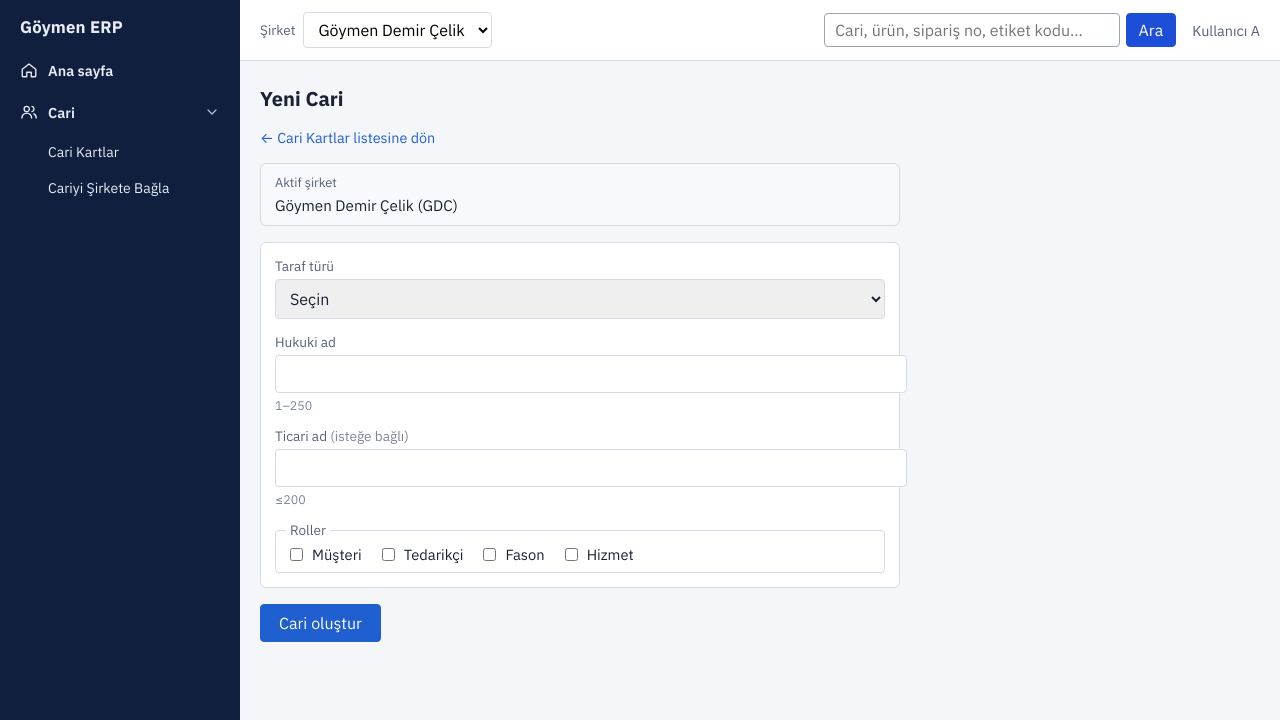
Test: C-02 success (G-002 checks 1, 10) › without the detail grant: the record is summarised with the server code, no detail read, and can be reset
The width and height of the screenshot is (1280, 720).
Expected: the heading "Yeni Cari" is shown, [260,85,344,112]
Select "Tüzel kişi" in the dropdown labelled "Taraf türü" at x=580, y=299, box [275,279,885,319]
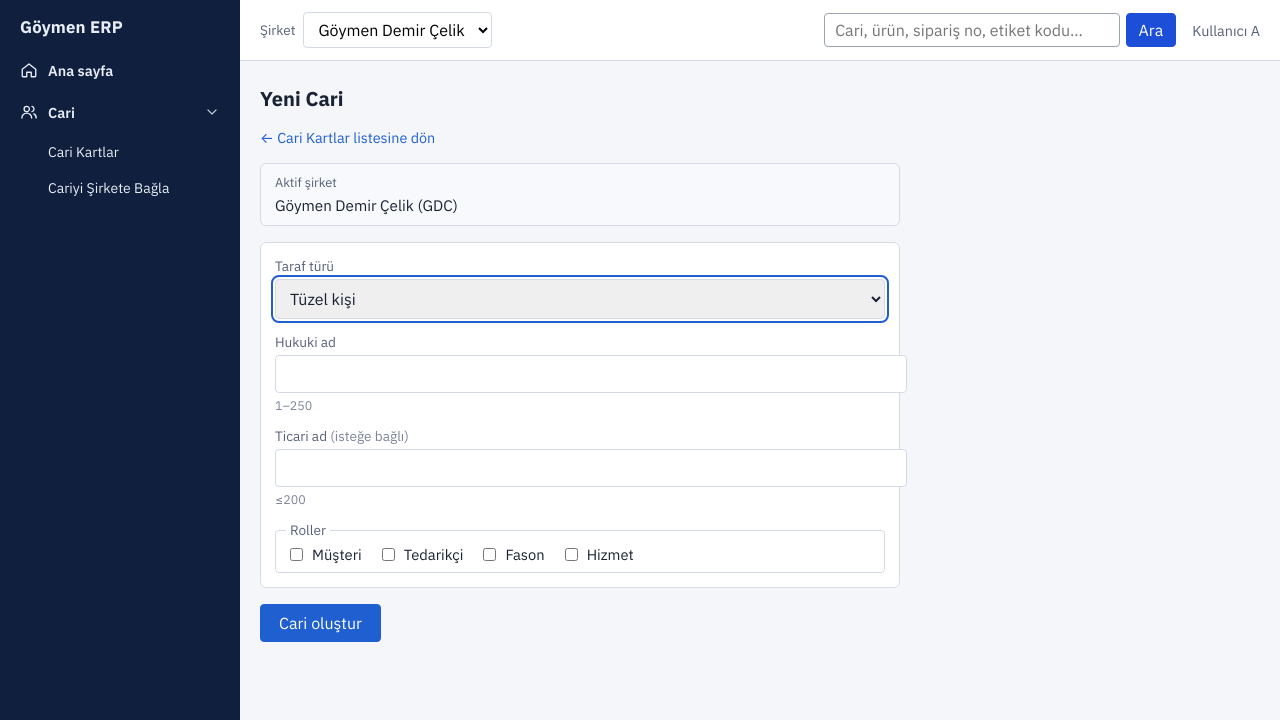
Type "Örnek Metal Sanayi ve Ticaret A.Ş." into the field labelled "Hukuki ad" at x=591, y=374, box [275,355,907,393]
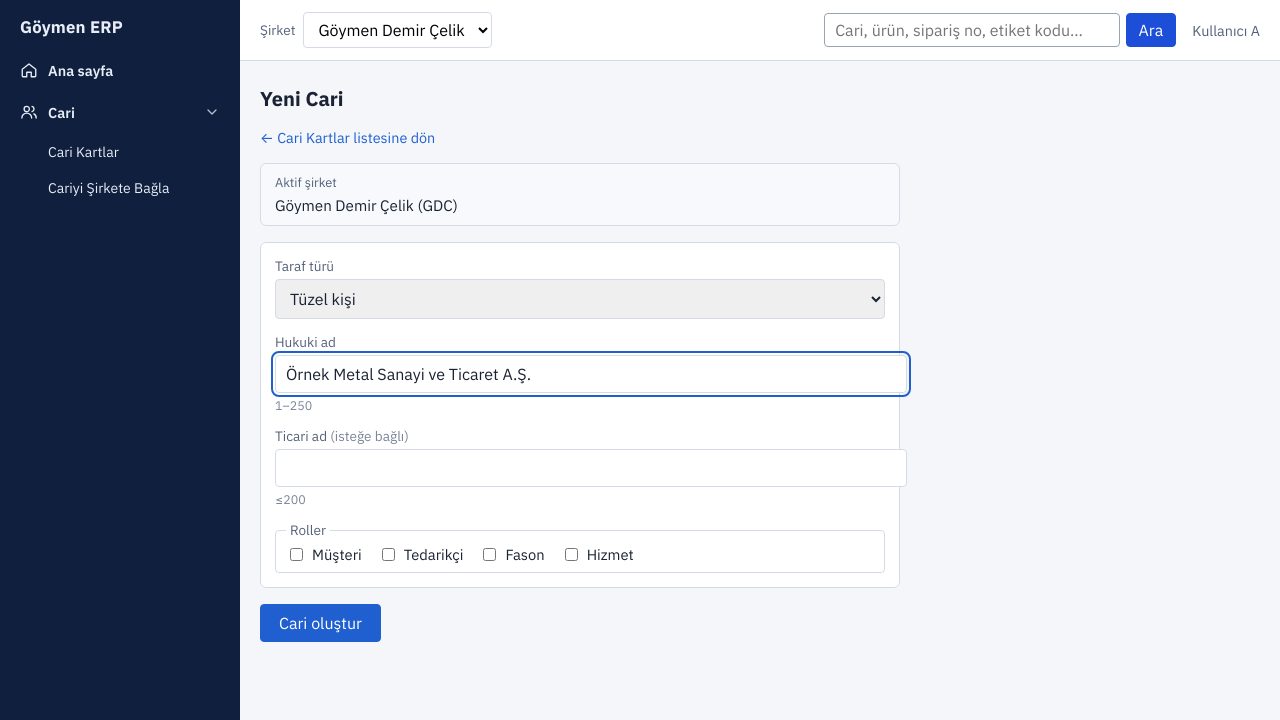
Click the checkbox labelled "Müşteri" at x=296, y=554, box [290,548,303,561]
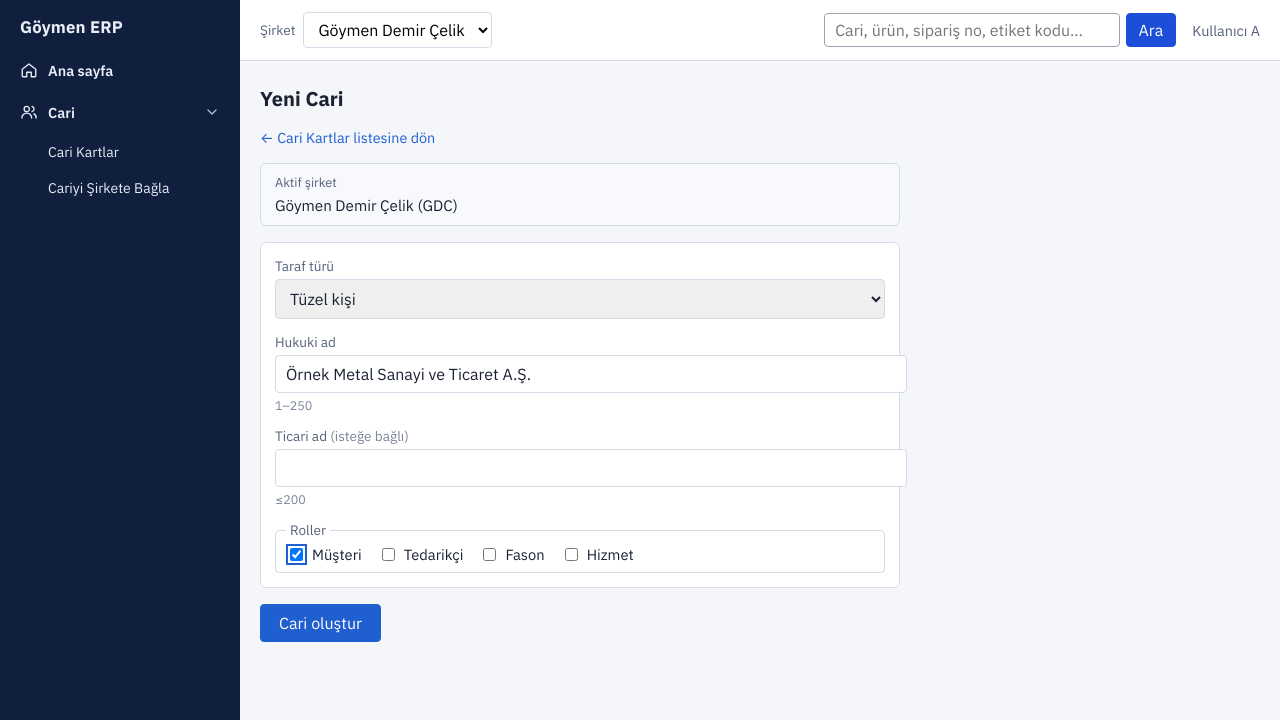
Click the checkbox labelled "Tedarikçi" at x=388, y=554, box [382,548,395,561]
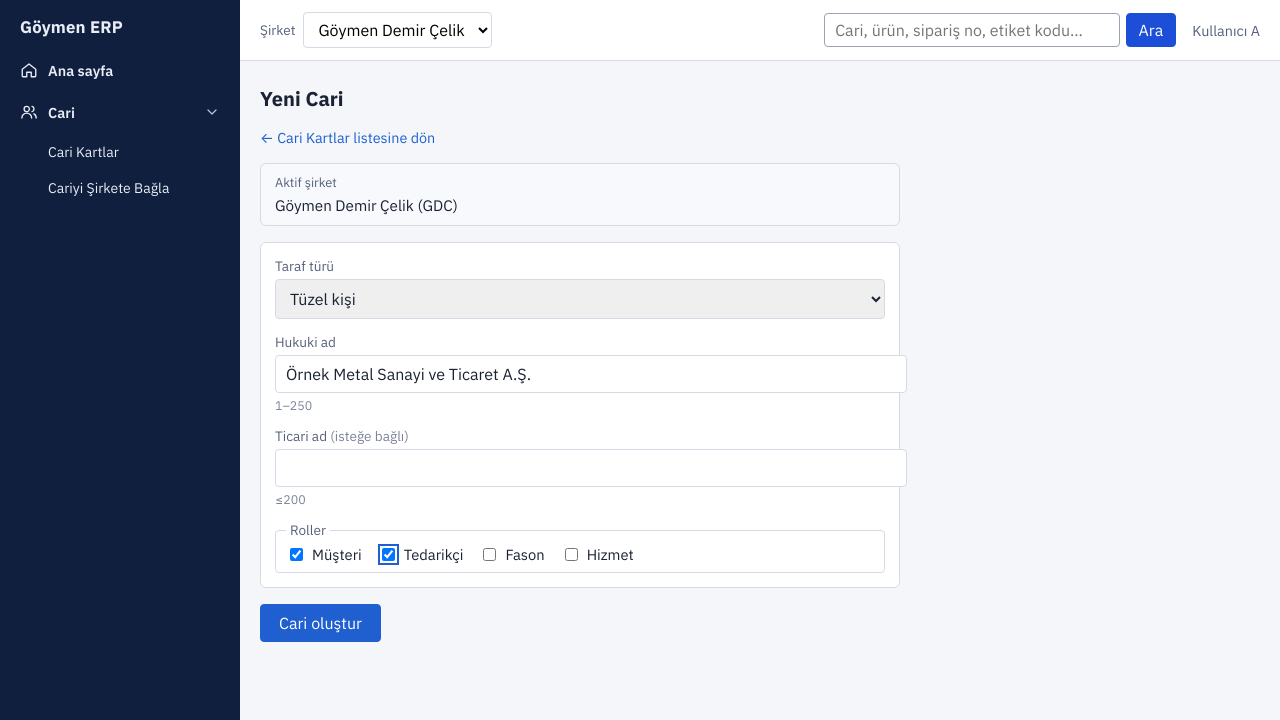
Click the button "Cari oluştur" at x=320, y=623, box [260,604,381,642]
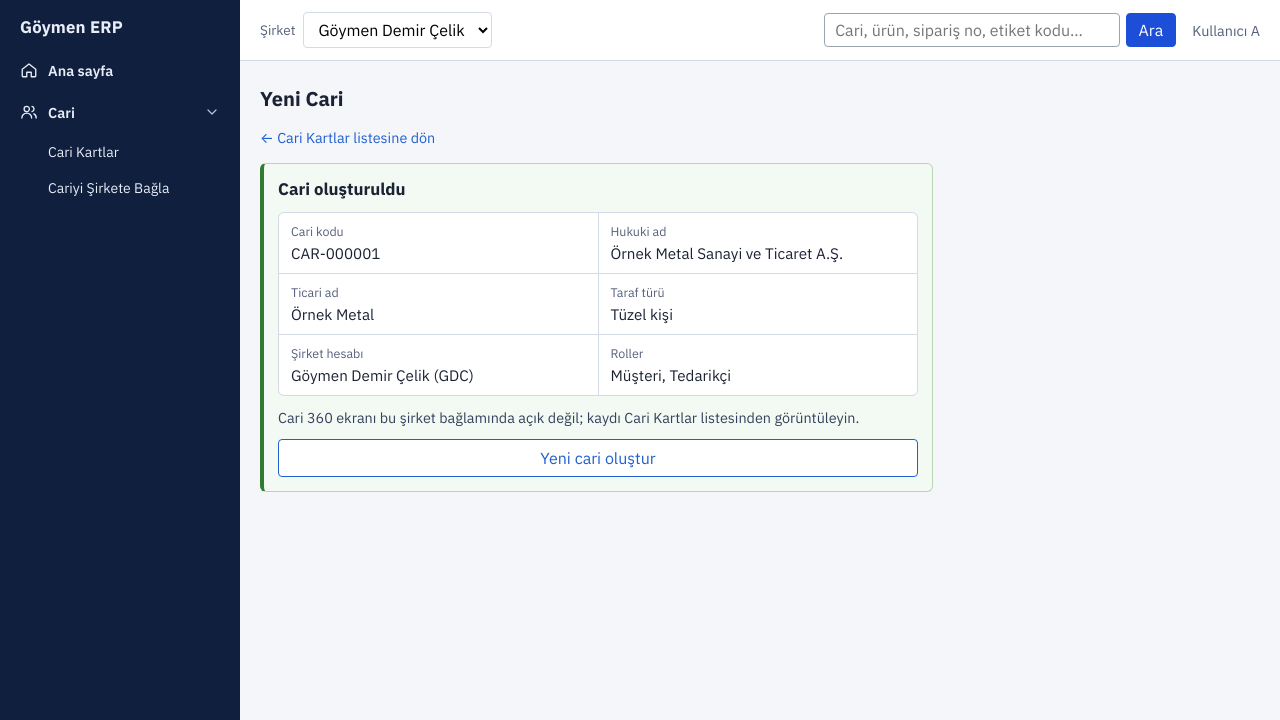
Expected: the text "Göymen Demir Çelik (GDC)" is shown, [291,365,474,385]
Expected: the text "CAR-000001" is shown, [291,243,380,263]
Expected: the text "Müşteri, Tedarikçi" is shown, [610,365,731,385]
Click the button "Yeni cari oluştur" at x=598, y=458, box [278,439,918,477]
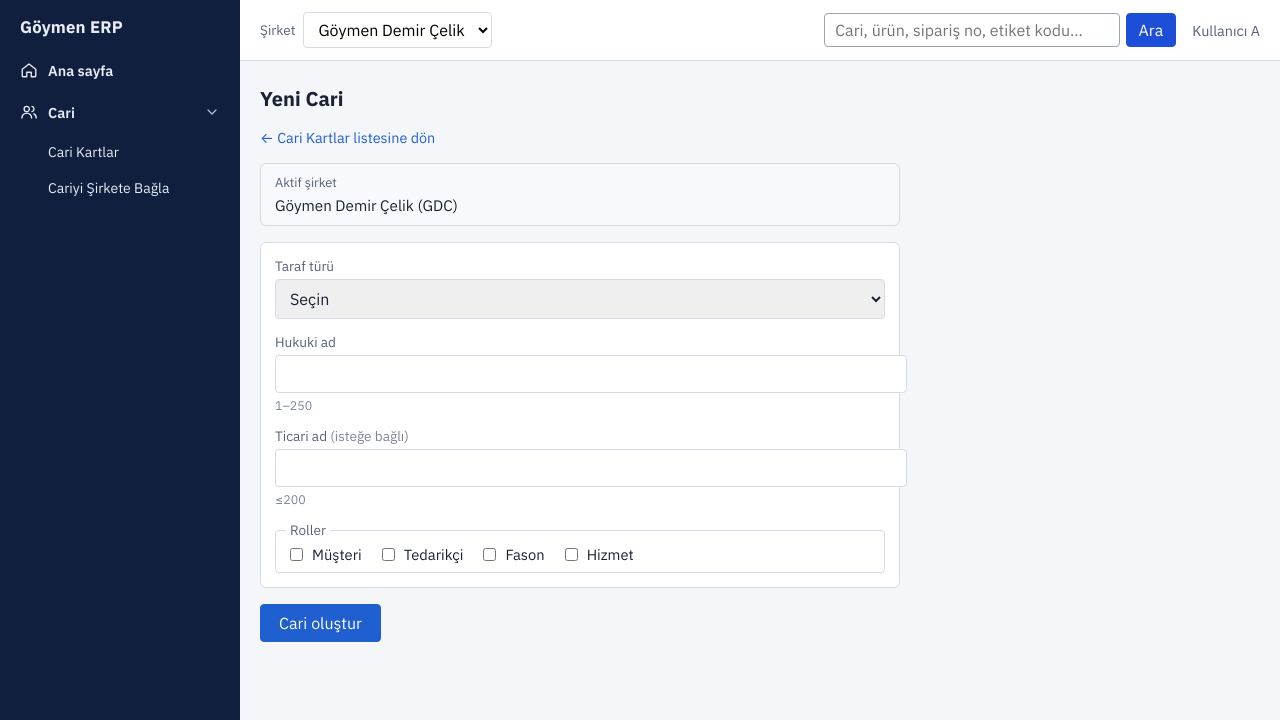
Expected: the field labelled "Hukuki ad" is empty, [275,355,907,393]
Expected: the dropdown labelled "Taraf türü" shows "Seçin", [275,279,885,319]
